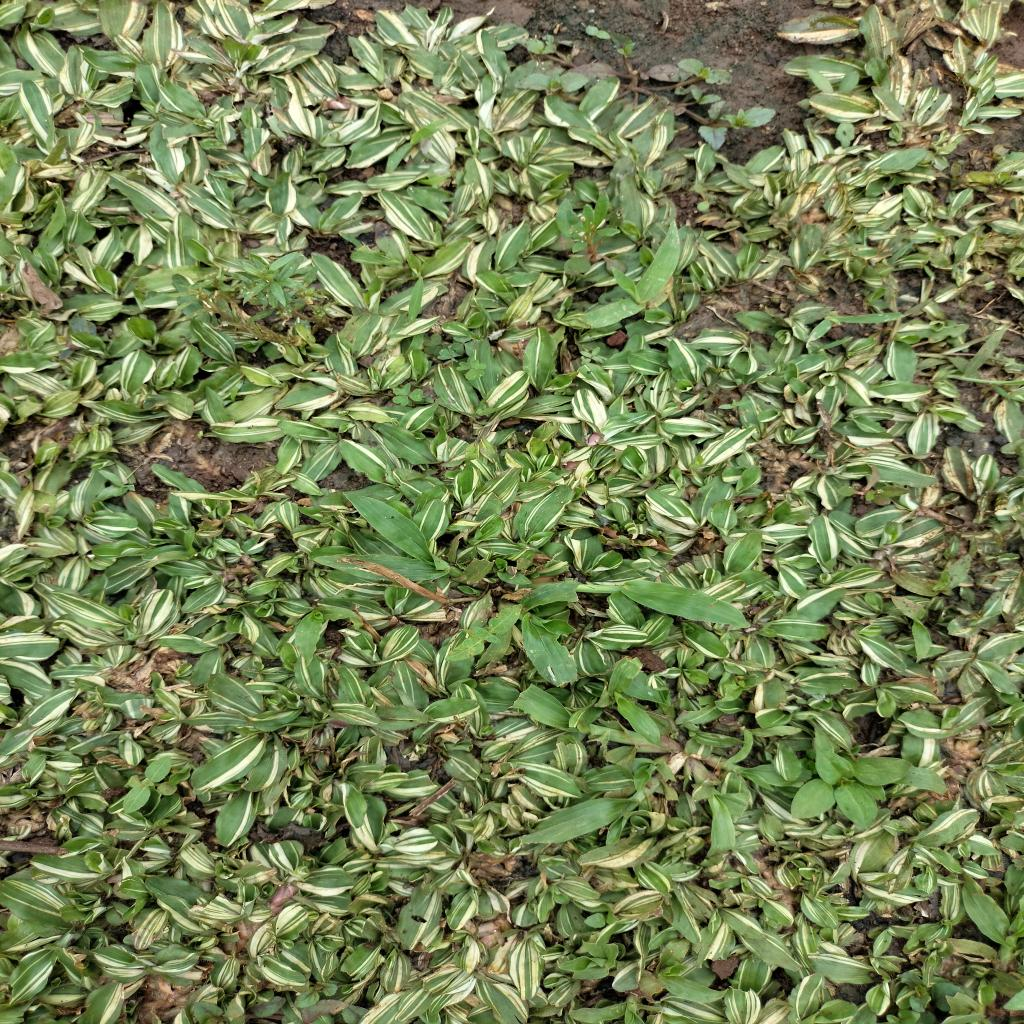bayi: (577, 345, 606, 367)
clover: (438, 330, 478, 362), (391, 380, 425, 408), (420, 332, 451, 360), (456, 357, 489, 382)
gingseng jawa: (553, 188, 631, 277)
rambat atas: (576, 217, 685, 330), (922, 324, 1024, 400), (383, 115, 456, 176), (802, 310, 906, 350), (406, 277, 426, 324), (715, 397, 755, 412)
rambat bawah: (308, 488, 497, 592), (518, 751, 687, 850), (505, 682, 684, 770), (504, 578, 754, 632), (496, 578, 586, 688), (694, 726, 818, 793), (591, 655, 672, 751), (683, 751, 752, 859), (644, 935, 730, 1004), (888, 552, 977, 600), (887, 593, 937, 664), (554, 940, 626, 982), (564, 989, 648, 1024), (627, 753, 688, 793)
tunggang besar: (441, 602, 525, 666), (120, 754, 180, 814)
ungu tunggang: (514, 27, 780, 152), (879, 968, 968, 1024)
